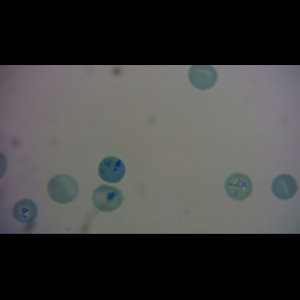aggregate reticulocyte: (96, 155, 127, 184)
erythrocyte: (46, 172, 80, 205), (91, 184, 124, 213), (224, 172, 255, 201), (187, 65, 219, 91), (270, 173, 299, 201), (11, 197, 39, 225)
